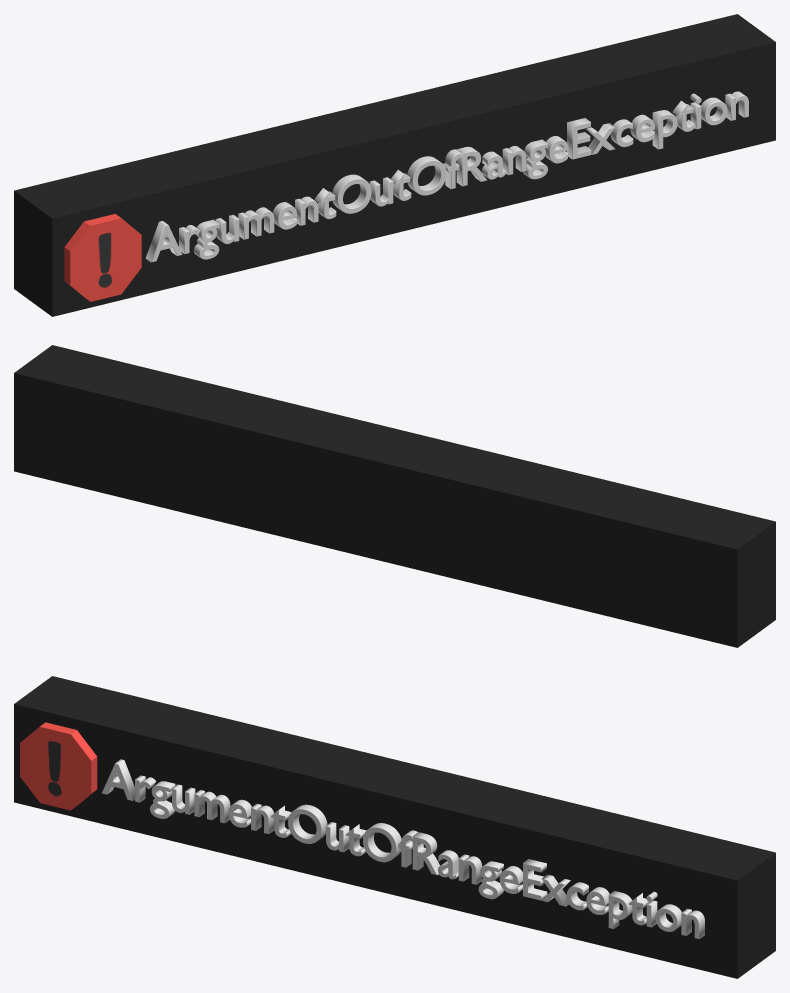
The model's file is ArgumentOutOfRangeException.fbx.
3 views of the same model, one above another, from view 1: azimuth 30°, elevation 25°; view 2: azimuth 150°, elevation 25°; view 3: azimuth 330°, elevation 25° (orthographic).
Visible parts, largest first — view 1: nooo1.004, ArgumentOutOfRangeException; view 2: nooo1.004; view 3: nooo1.004, ArgumentOutOfRangeException.
Boxes of the visible parts, x1,y1,x2,y2 form: nooo1.004: [14, 14, 775, 316]; ArgumentOutOfRangeException: [145, 91, 748, 262]; nooo1.004: [14, 345, 775, 647]; nooo1.004: [14, 676, 775, 978]; ArgumentOutOfRangeException: [102, 759, 704, 939].
Bounding box in the file's own units: 3041 × 395 × 323.
